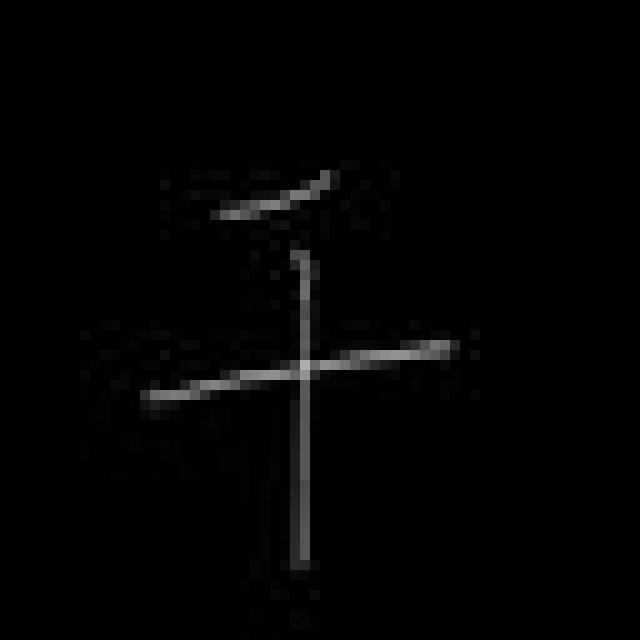1000 -a thousand-: (136, 167, 460, 577)
